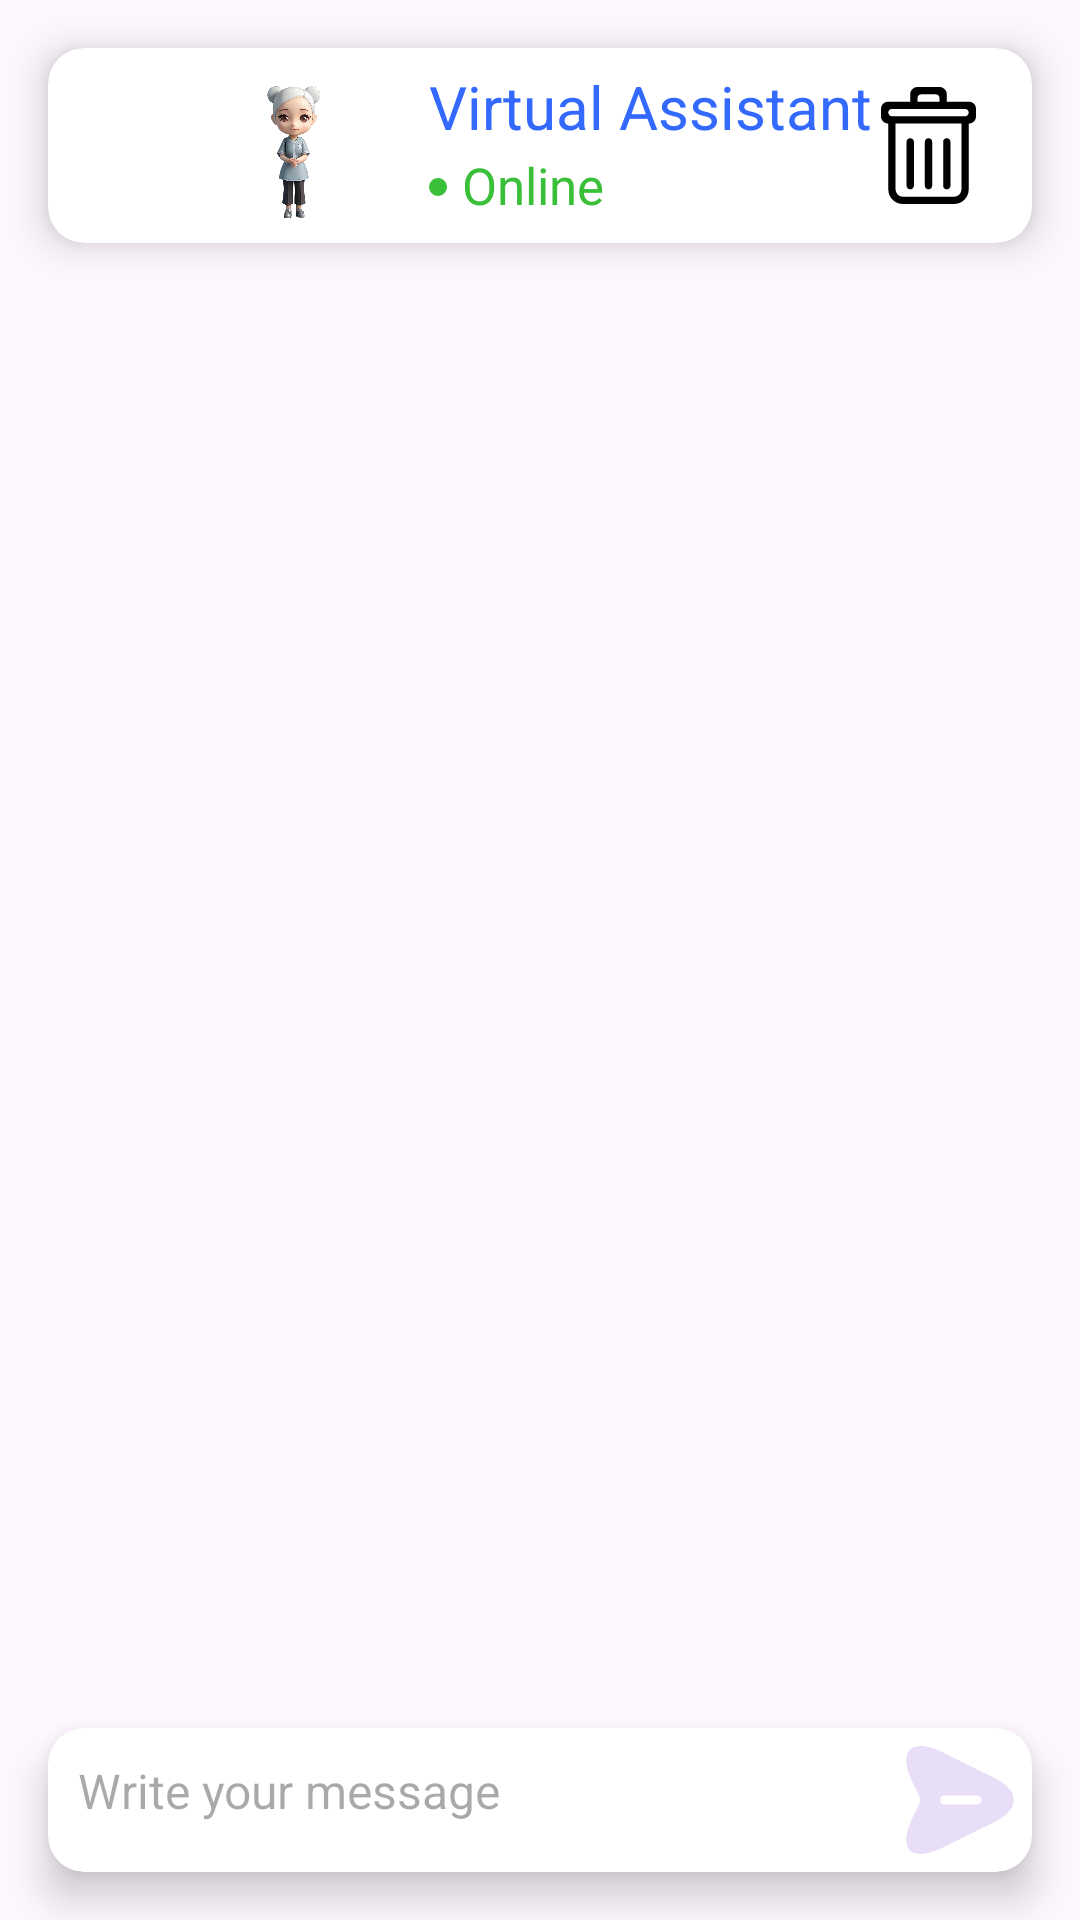

Where to tap for icons on this 1080*1920 app screen, as [x,y]:
Send: [960,1800]
trash: [928,145]
